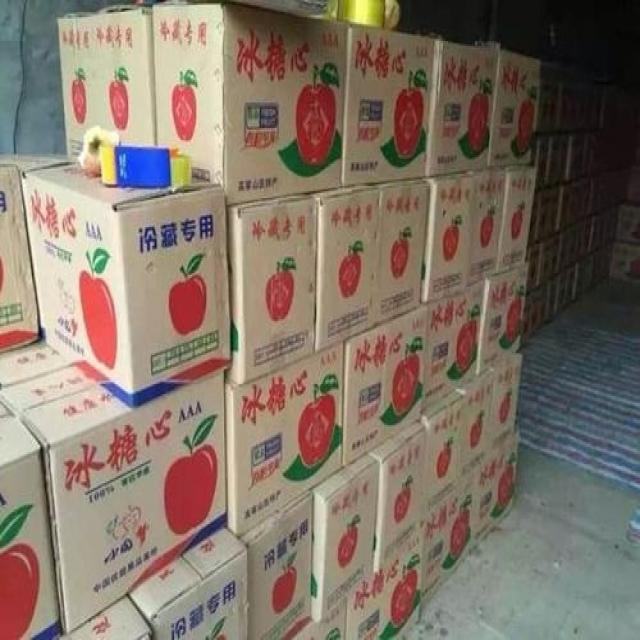box: (14, 370, 227, 637), (20, 160, 232, 410), (152, 0, 348, 207), (224, 341, 346, 538), (224, 193, 317, 384), (56, 3, 156, 157), (339, 26, 434, 188), (0, 413, 63, 640), (343, 299, 426, 469), (127, 527, 248, 640), (310, 454, 380, 625), (311, 183, 380, 353), (239, 488, 314, 640), (426, 39, 499, 177), (369, 420, 426, 575), (421, 464, 479, 613), (346, 532, 424, 640), (375, 177, 430, 329), (0, 157, 42, 353), (424, 282, 485, 415), (420, 171, 475, 304), (486, 49, 543, 167), (477, 263, 529, 374), (0, 365, 100, 413), (468, 166, 507, 288), (422, 393, 461, 515), (479, 430, 520, 544), (58, 594, 154, 640), (499, 162, 538, 273), (456, 369, 493, 485), (488, 350, 525, 451), (0, 340, 72, 387), (289, 599, 346, 640), (557, 174, 591, 234), (557, 217, 591, 276), (568, 82, 603, 133), (535, 183, 563, 242), (522, 282, 548, 345), (0, 154, 78, 174), (585, 166, 613, 220), (609, 242, 640, 288), (543, 131, 568, 188), (579, 130, 607, 177), (535, 79, 559, 133), (571, 253, 595, 305), (536, 234, 559, 288), (613, 201, 640, 246), (553, 80, 575, 133), (532, 131, 552, 189), (553, 265, 573, 319), (564, 130, 584, 183), (593, 242, 613, 288), (543, 276, 557, 328), (529, 189, 541, 246), (602, 205, 617, 249), (526, 242, 539, 292), (588, 212, 603, 254), (0, 401, 14, 416)
